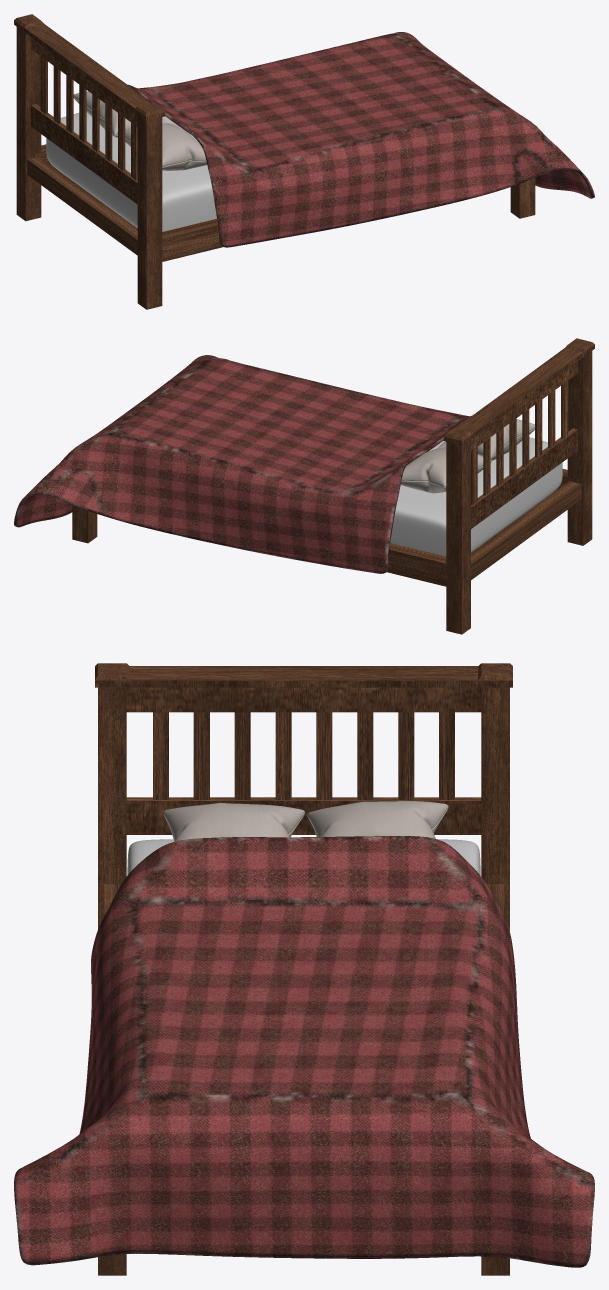
The model's file is bed_frame_model (1).glb.
The picture shows the model from 3 angles, top to bottom: view 1: azimuth 30°, elevation 25°; view 2: azimuth 150°, elevation 25°; view 3: azimuth 270°, elevation 25°; orthographic projection. The views are drawn at different scales.
Visible parts, largest first — view 1: Plane, Back Board, Back Legs, Cube, Back Frame, Side Frame, Pillow 1.001, Front Legs, Pillow 1; view 2: Plane, Back Board, Back Legs, Cube, Back Frame, Side Frame, Pillow 1, Front Legs, Pillow 1.001; view 3: Plane, Back Board, Back Legs, Pillow 1, Pillow 1.001, Cube, Front Legs.
Part boxes in pixels (x1=…): Plane: x1=128, y1=32, x2=594, y2=247; Back Board: x1=14, y1=14, x2=164, y2=204; Back Legs: x1=16, y1=27, x2=162, y2=309; Cube: x1=46, y1=112, x2=216, y2=231; Back Frame: x1=27, y1=156, x2=137, y2=255; Side Frame: x1=34, y1=144, x2=222, y2=261; Pillow 1.001: x1=117, y1=123, x2=206, y2=170; Front Legs: x1=510, y1=178, x2=535, y2=218; Pillow 1: x1=73, y1=91, x2=167, y2=137; Plane: x1=14, y1=355, x2=471, y2=573; Back Board: x1=443, y1=338, x2=594, y2=528; Back Legs: x1=446, y1=351, x2=592, y2=634; Cube: x1=390, y1=437, x2=562, y2=556; Back Frame: x1=471, y1=481, x2=581, y2=579; Side Frame: x1=387, y1=469, x2=574, y2=586; Pillow 1: x1=400, y1=447, x2=491, y2=493; Front Legs: x1=72, y1=505, x2=97, y2=543; Pillow 1.001: x1=437, y1=419, x2=534, y2=460; Plane: x1=14, y1=836, x2=594, y2=1267; Back Board: x1=95, y1=663, x2=512, y2=834; Back Legs: x1=98, y1=687, x2=509, y2=931; Pillow 1: x1=307, y1=801, x2=448, y2=838; Pillow 1.001: x1=163, y1=803, x2=304, y2=841; Cube: x1=127, y1=839, x2=480, y2=875; Front Legs: x1=98, y1=1254, x2=509, y2=1275.
Size of the model in its own units: 2.78 by 1.23 by 2.07.
Materials: 5 (5 with a texture image).
